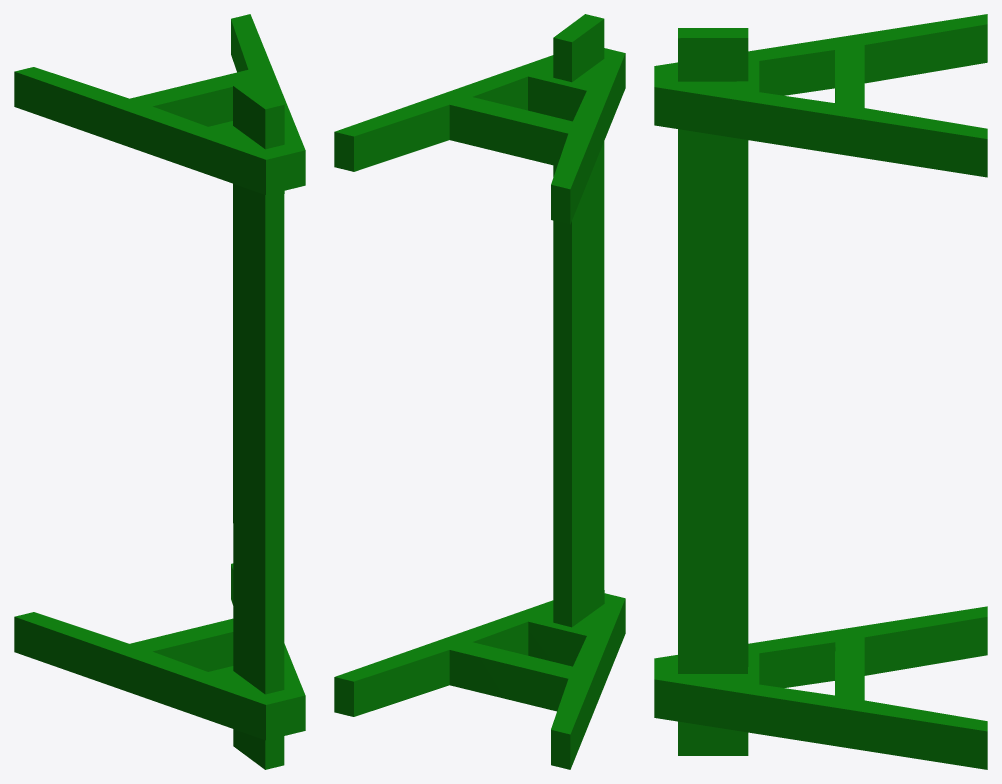
Rendered from street_barrier1.obj.
3 renders of one model, left to right at view 1: azimuth 30°, elevation 25°; view 2: azimuth 150°, elevation 25°; view 3: azimuth 270°, elevation 25°, orthographic. The views are drawn at different scales.
Visible parts, largest first — view 1: Box02; view 2: Box02; view 3: Box02.
Boxes of the visible parts, x1=… form: Box02: x1=14, y1=14, x2=305, y2=769; Box02: x1=334, y1=14, x2=625, y2=769; Box02: x1=654, y1=14, x2=987, y2=769.
Bounding box in the file's own units: 0.3359 × 0.8982 × 0.3781.
